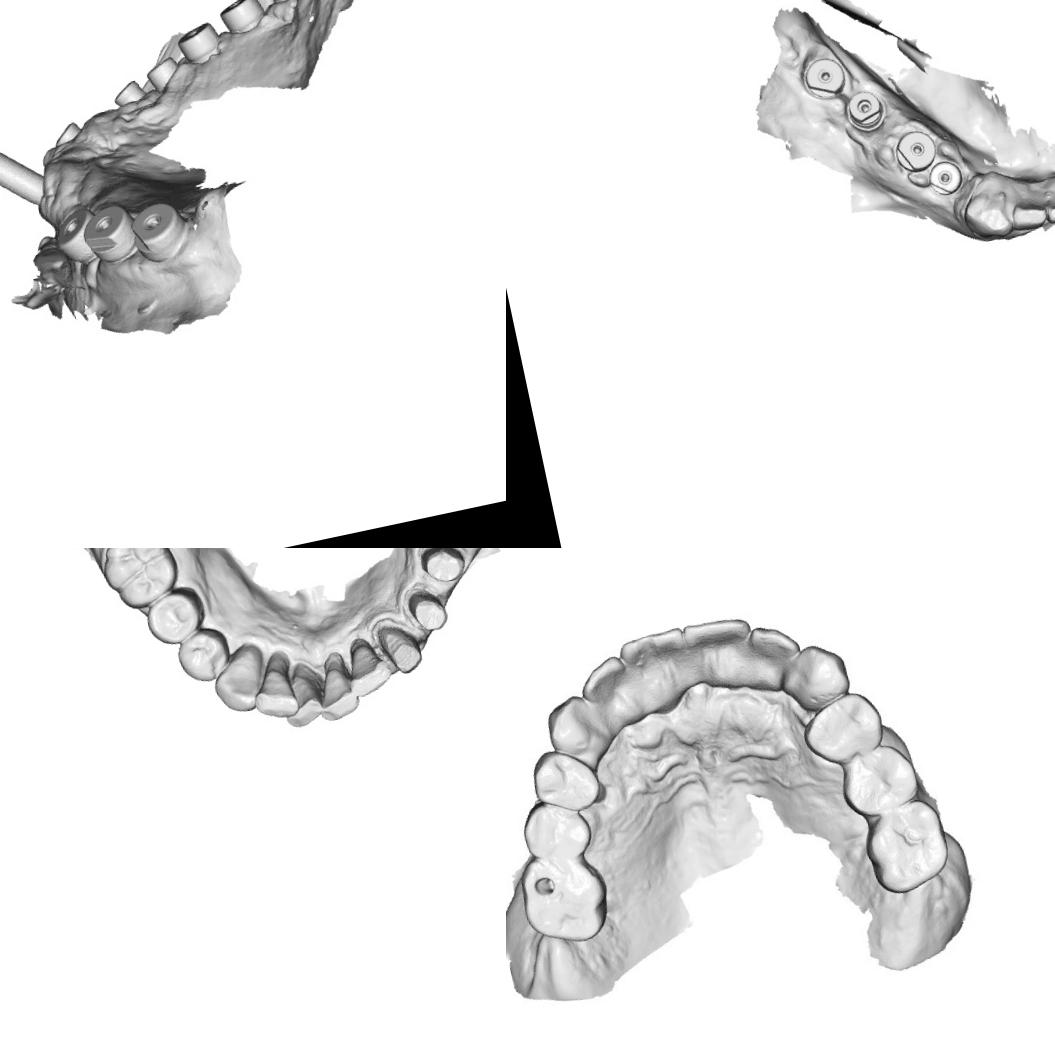canine: (782, 637, 855, 712), (205, 640, 274, 718), (541, 691, 607, 760), (956, 181, 1022, 245)
crown: (370, 613, 426, 679), (402, 584, 452, 636), (414, 548, 469, 587)
implant: (124, 197, 194, 269), (76, 198, 143, 272), (0, 123, 51, 220), (48, 206, 104, 272), (834, 80, 892, 136), (886, 120, 941, 175), (798, 48, 848, 100), (172, 18, 226, 66), (922, 153, 970, 200), (216, 0, 267, 38), (142, 53, 185, 94), (110, 76, 148, 112), (48, 116, 86, 150)
incisor: (680, 608, 758, 682), (576, 654, 647, 735), (619, 627, 699, 696), (737, 616, 804, 684), (244, 648, 302, 724), (308, 648, 362, 722), (339, 632, 396, 700), (276, 659, 328, 730), (1006, 183, 1054, 232), (1038, 173, 1055, 226)
molar: (856, 795, 956, 900), (516, 849, 616, 953), (95, 548, 184, 614)
premolar: (833, 737, 925, 821), (796, 686, 888, 770), (515, 792, 596, 872), (524, 742, 605, 816), (140, 582, 210, 649), (172, 623, 235, 686)
